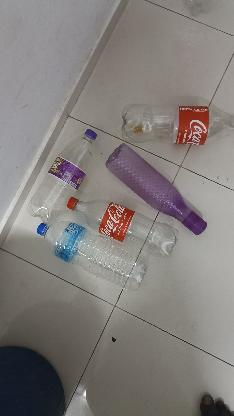Plastic Bottle: (119, 97, 234, 144), (62, 119, 102, 183), (36, 222, 86, 268), (96, 250, 146, 296), (64, 194, 142, 218)
